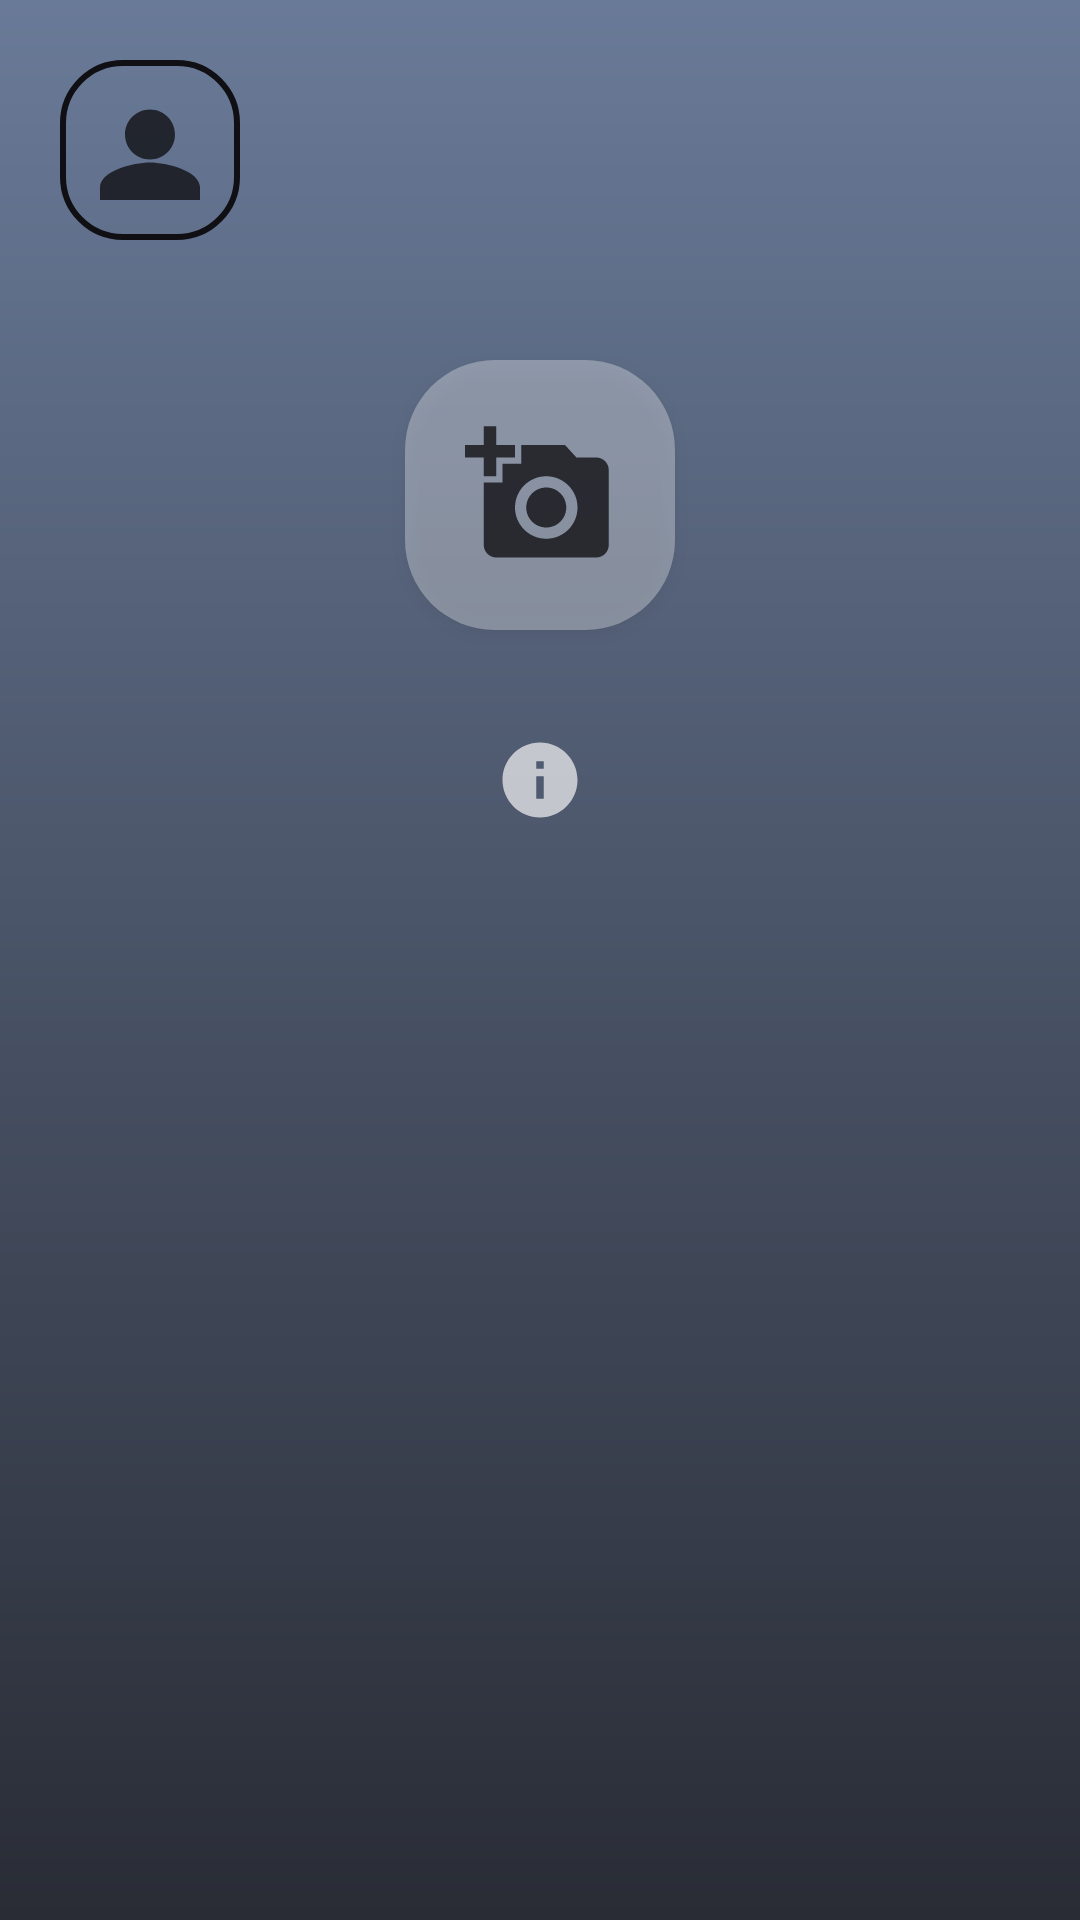

Named icons in this screenshot (1080px×1920px) and their centers, (x,y):
info: (540,780)
login: (150,150)
pic add: (540,495)
